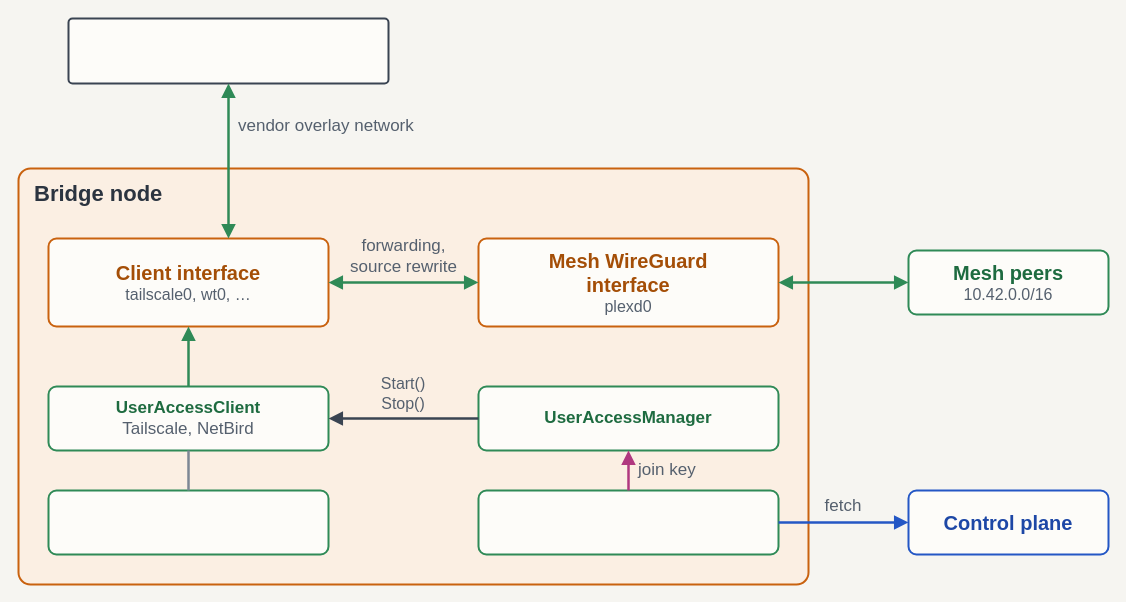
Image size: 1126x602. Some labels were removed from this diagram. Here are the shapes that lost their labels. From the top down, the centre of each, then its label:
pixel 228 50: Tailscale or NetBird users of the vendor's network
pixel 188 522: CommandExecutor tailscale, netbird CLI
pixel 628 522: nodeSecretFetcher the Secret's value
